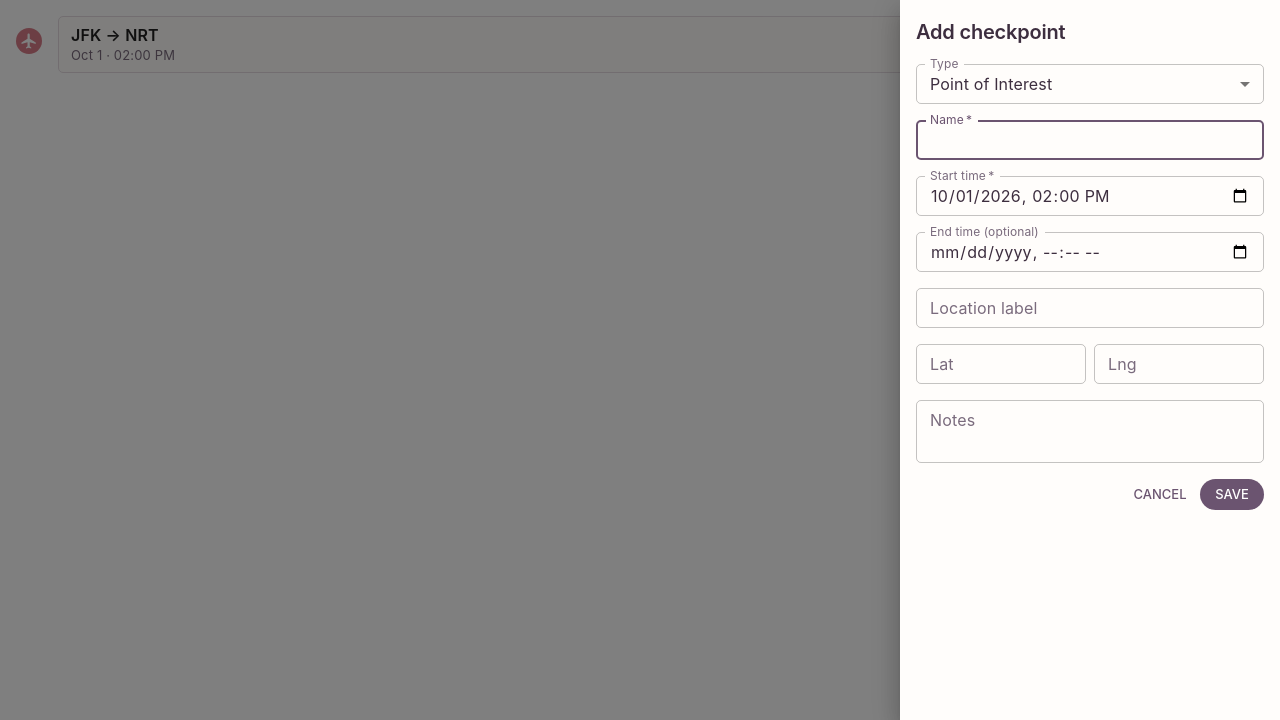
it: TimelineView — with checkpoints › closes the add form when Cancel is clicked inside the drawer
expect the heading "Add checkpoint" is shown: met, box [916,20,1065,44]
Step 1. Click the button "Cancel" → [1160, 494], box [1128,479,1192,510]
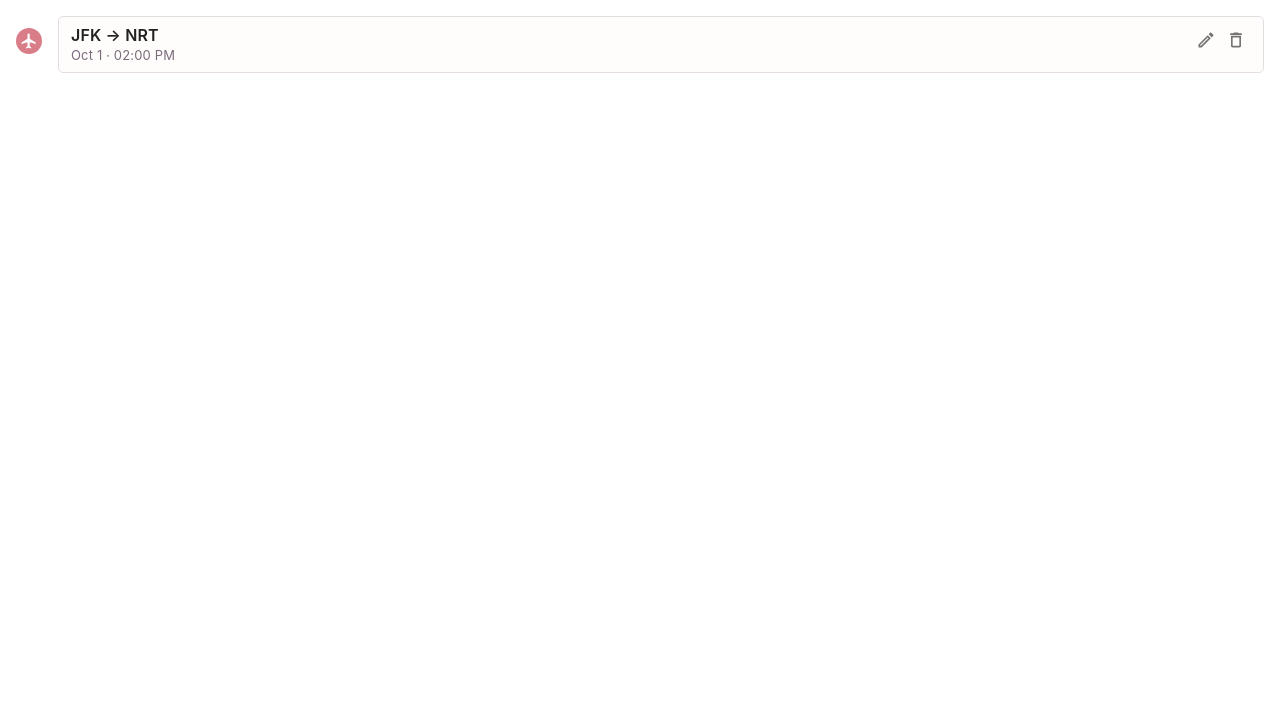
expect the heading "Add checkpoint" is gone: met
